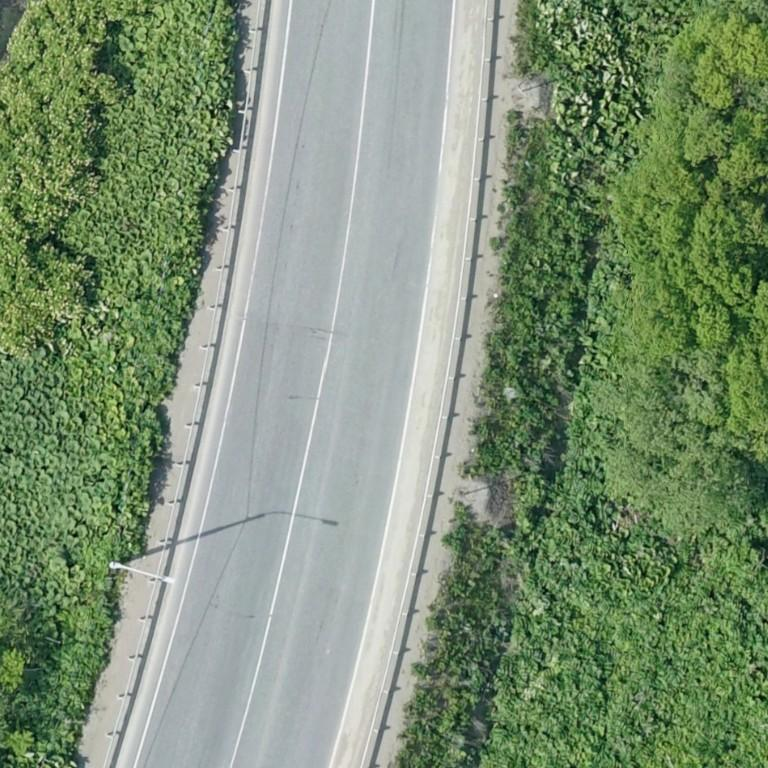hogweed: (480, 459, 767, 767), (10, 602, 110, 756), (128, 284, 193, 403), (85, 530, 128, 595)
